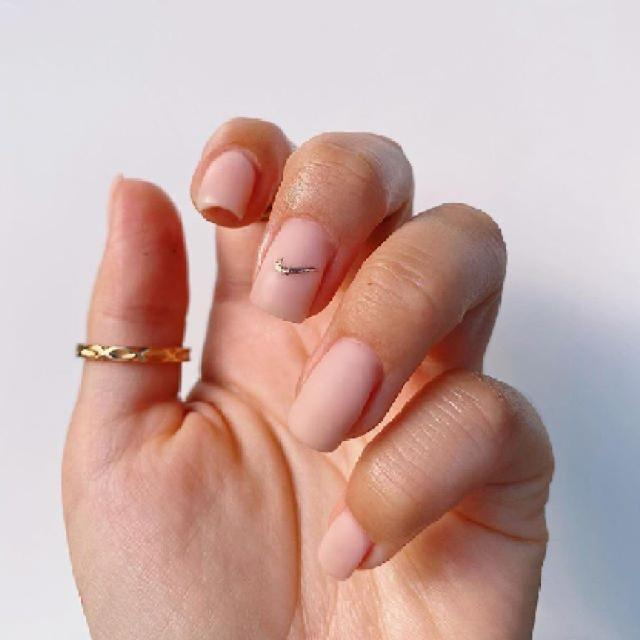Nail: (289, 338, 382, 451), (250, 218, 332, 322), (196, 150, 256, 219), (319, 509, 372, 578)
